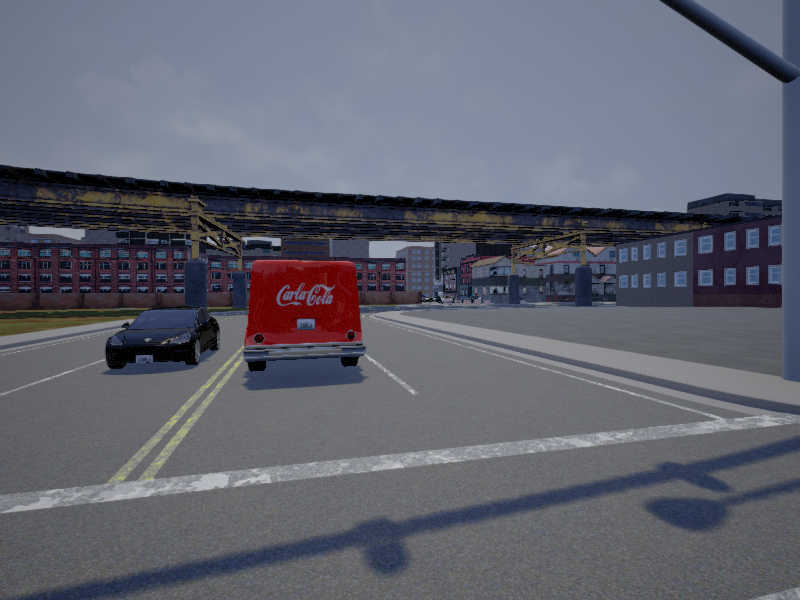Benign: (241, 259, 364, 368), (105, 308, 222, 368)
